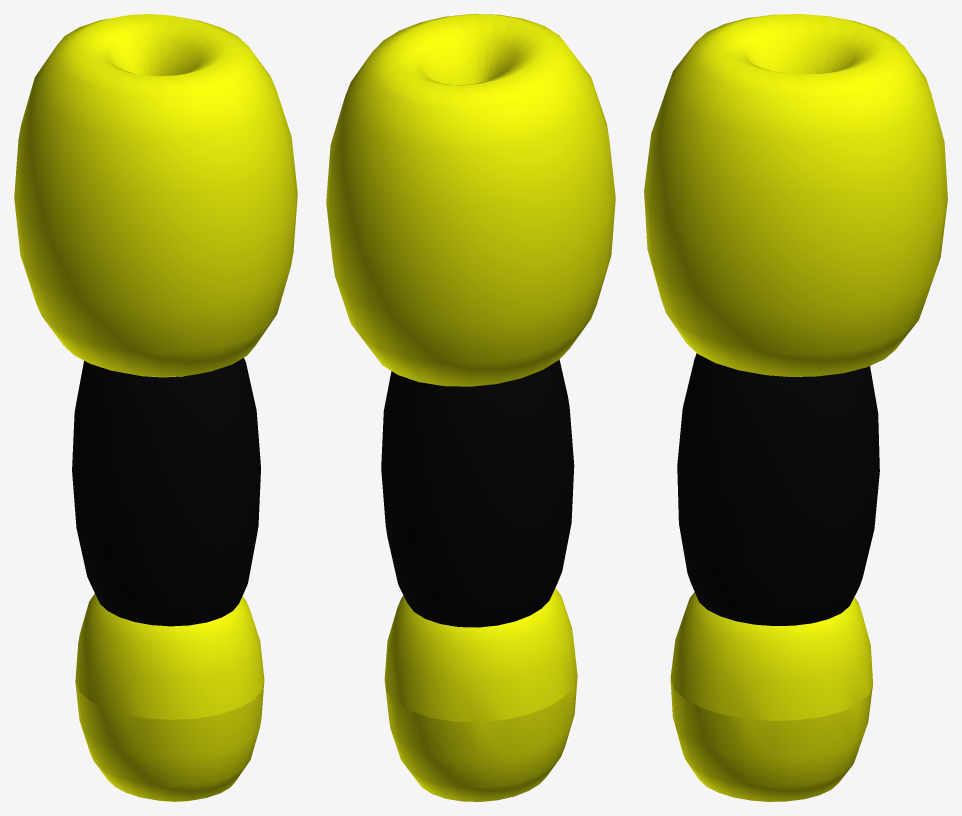
Rendered from Nozzle04.fbx.
3 renders of one model, left to right at view 1: azimuth 30°, elevation 25°; view 2: azimuth 150°, elevation 25°; view 3: azimuth 270°, elevation 25°, orthographic. The views are drawn at different scales.
Visible parts, largest first — view 1: Nozzle04; view 2: Nozzle04; view 3: Nozzle04.
Boxes of the visible parts, box(x1,y1,x2,y2) form: Nozzle04: box(14, 14, 297, 801); Nozzle04: box(326, 14, 615, 801); Nozzle04: box(644, 14, 947, 801).
Bounding box in the file's own units: 60.58 × 175 × 65.
